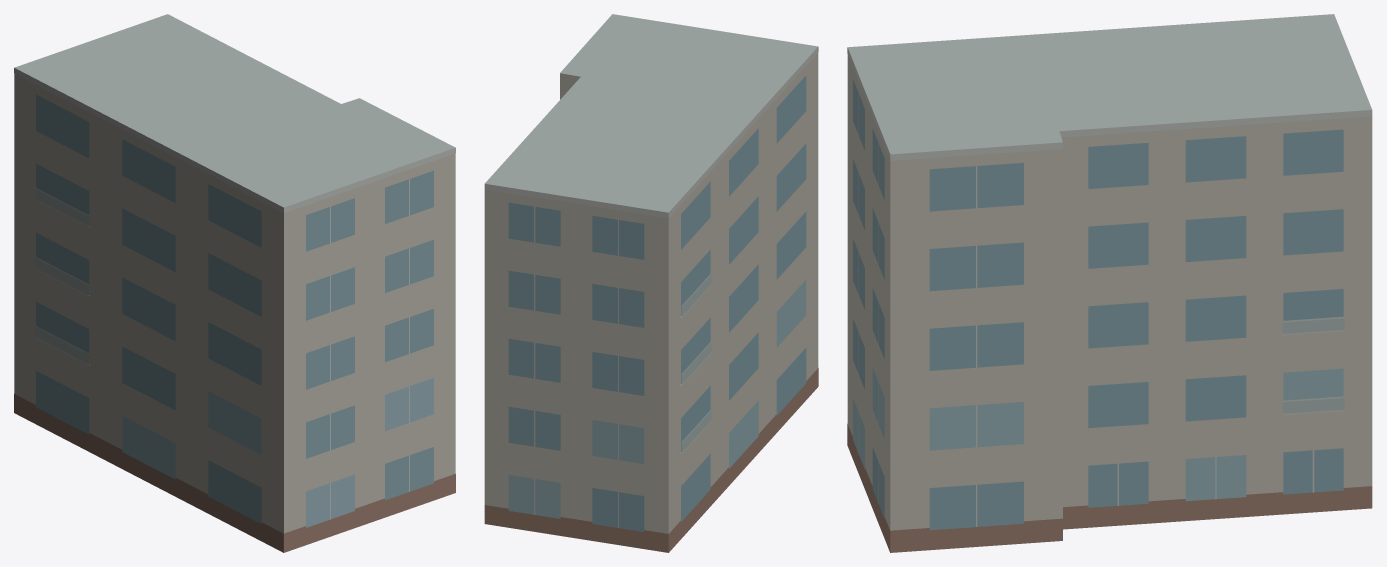
Rendered from survey-upis-32906683.glb.
The picture shows the model from 3 angles, left to right: view 1: azimuth 30°, elevation 25°; view 2: azimuth 150°, elevation 25°; view 3: azimuth 270°, elevation 25°; orthographic projection. The views are drawn at different scales.
Visible parts, largest first — view 1: survey-upis-32906683.tmp; view 2: survey-upis-32906683.tmp; view 3: survey-upis-32906683.tmp.
Part boxes in pixels (x1,y1,x2,y2): survey-upis-32906683.tmp: [14, 14, 455, 552]; survey-upis-32906683.tmp: [484, 14, 818, 552]; survey-upis-32906683.tmp: [847, 14, 1372, 552].
Bounding box in the file's own units: 11.27 × 14.9 × 17.8.
